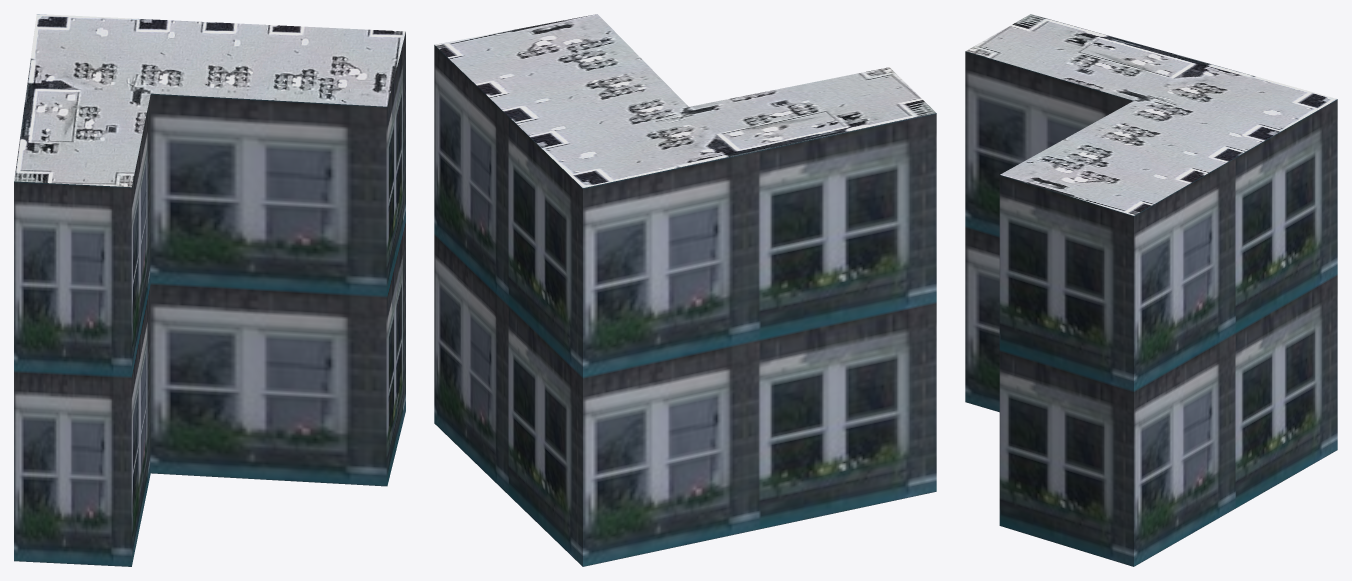
The model's file is ResTex__4271.fbx.
3 renders of one model, left to right at view 1: azimuth 30°, elevation 25°; view 2: azimuth 150°, elevation 25°; view 3: azimuth 270°, elevation 25°, orthographic. The views are drawn at different scales.
Visible parts, largest first — view 1: CityEngineMaterial_11_m, CityEngineMaterial_4_m; view 2: CityEngineMaterial_11_m, CityEngineMaterial_4_m; view 3: CityEngineMaterial_11_m, CityEngineMaterial_4_m.
Part boxes in pixels (x1=…): CityEngineMaterial_11_m: x1=14, y1=32, x2=405, y2=566; CityEngineMaterial_4_m: x1=14, y1=14, x2=405, y2=187; CityEngineMaterial_11_m: x1=434, y1=45, x2=936, y2=566; CityEngineMaterial_4_m: x1=435, y1=14, x2=935, y2=187; CityEngineMaterial_11_m: x1=965, y1=51, x2=1337, y2=566; CityEngineMaterial_4_m: x1=965, y1=14, x2=1336, y2=215.
Bounding box in the file's own units: 7.4 × 6 × 5.76.
Materials: 2 (2 with a texture image).
